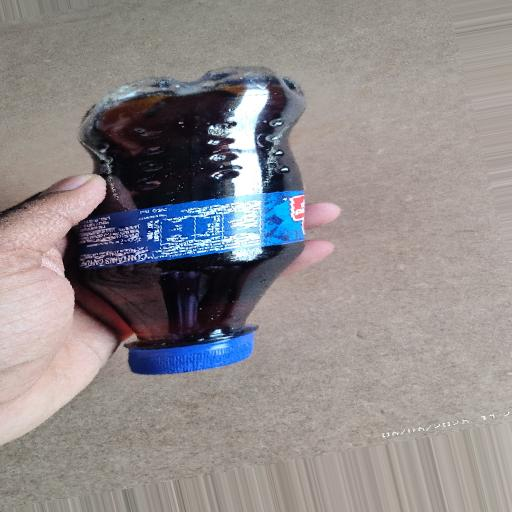Thumps Up: (47, 61, 335, 406)
